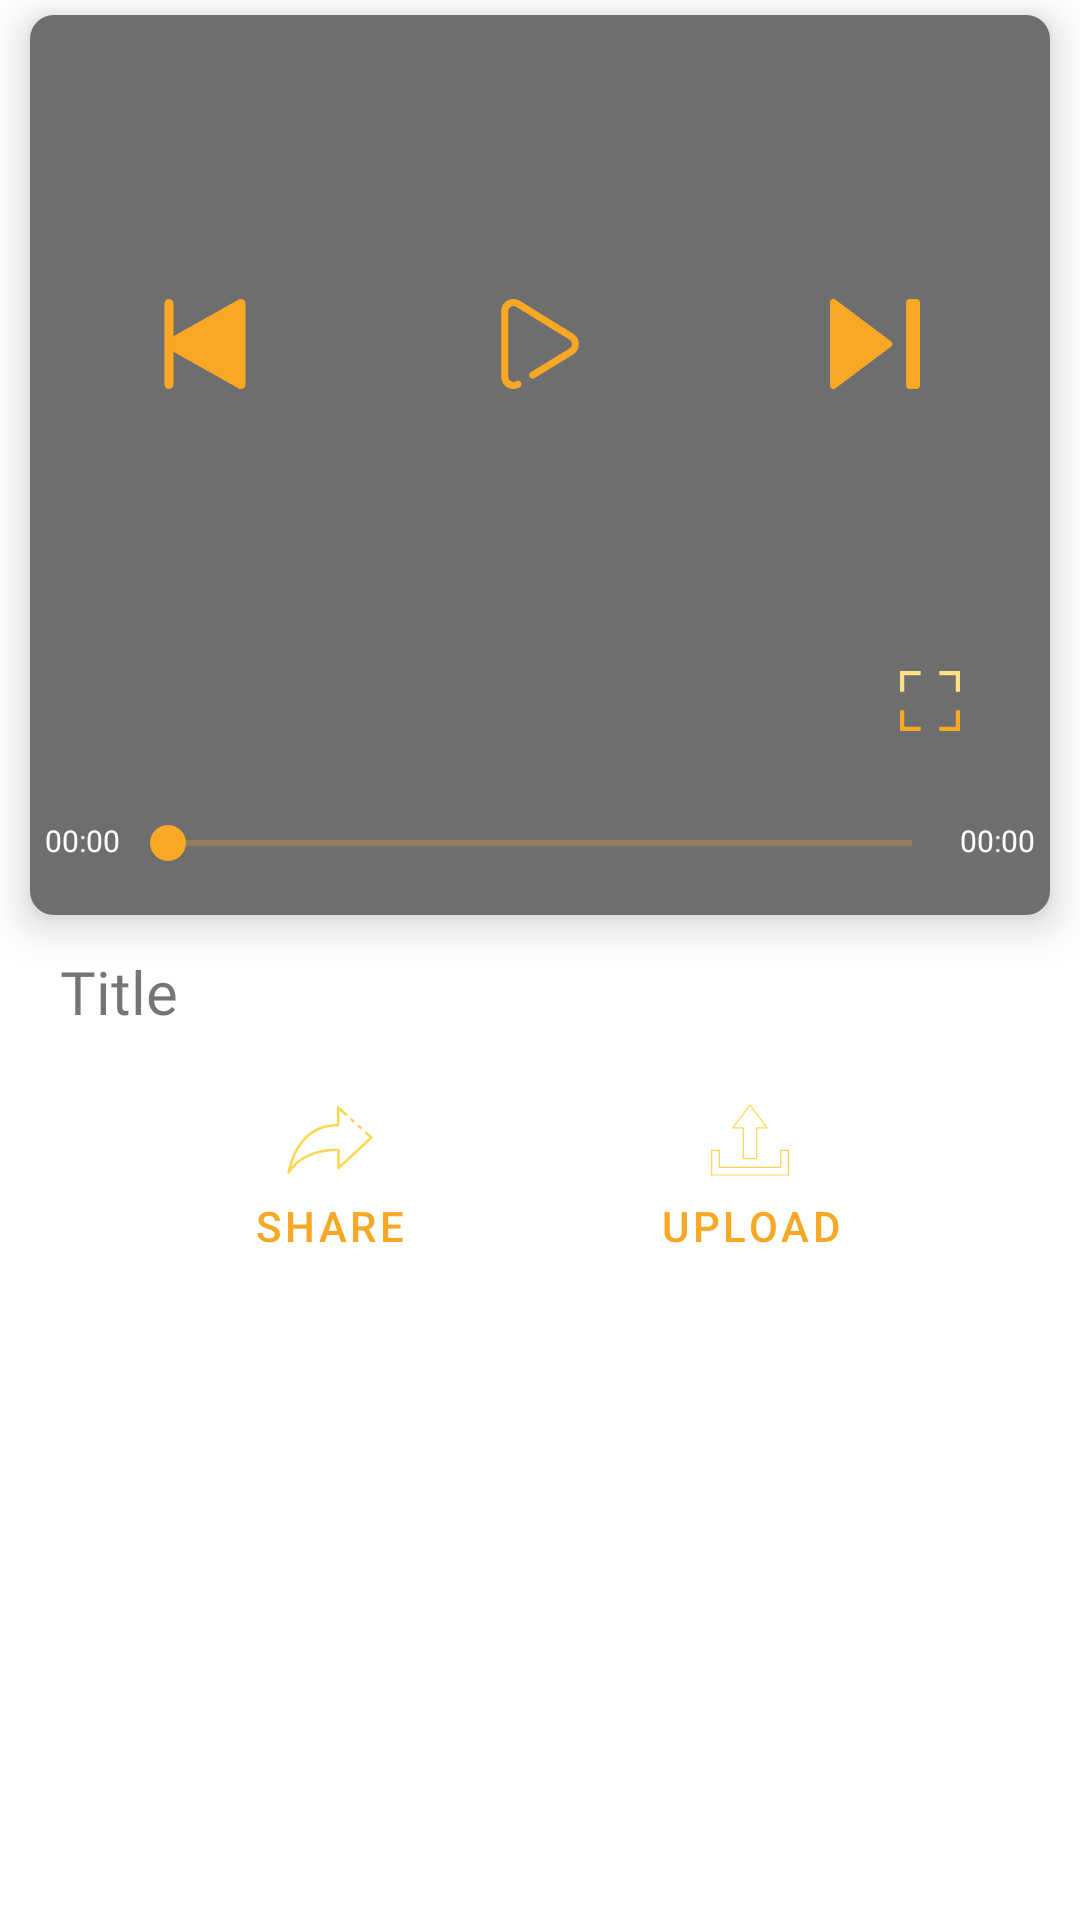

Where to tap for icons on this 1080 x 1920 app screen, as (x=x, y=y):
full screen: (x=930, y=701)
next: (x=875, y=344)
play: (x=540, y=344)
previous: (x=205, y=344)
